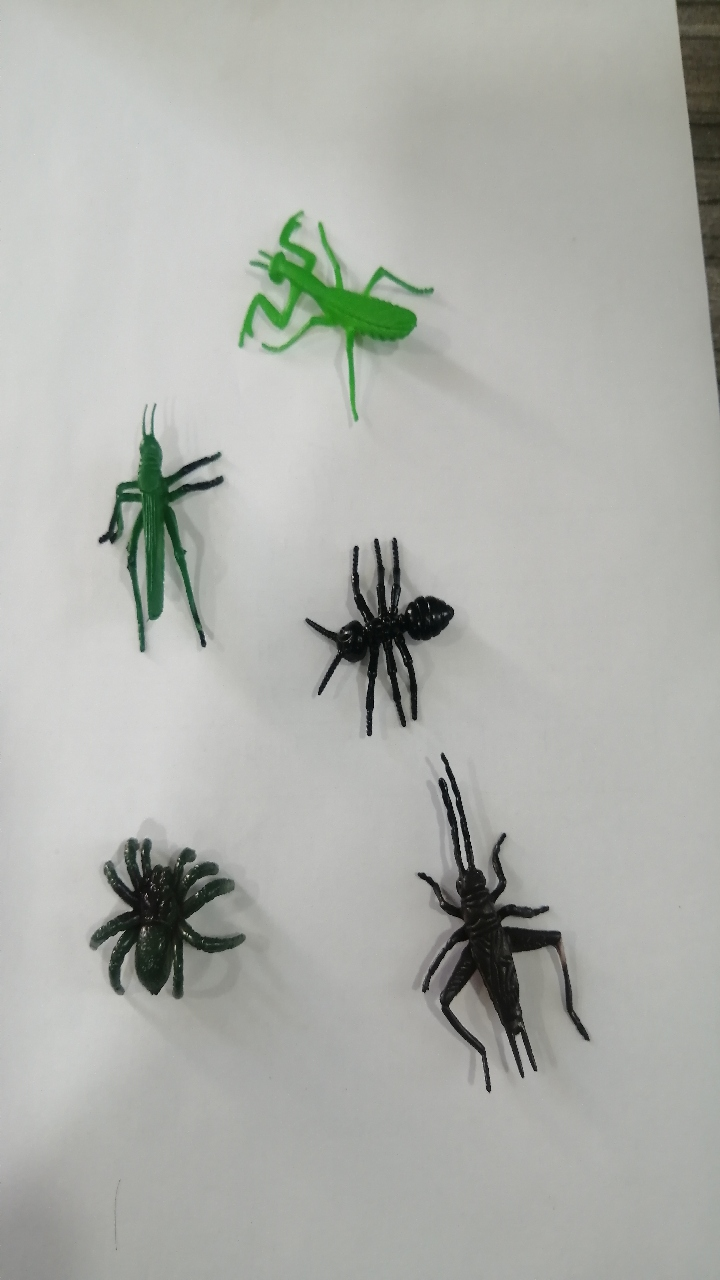intruso: (381, 763, 594, 1119), (57, 366, 244, 697), (214, 186, 443, 429), (64, 792, 264, 1048), (269, 494, 472, 746)
